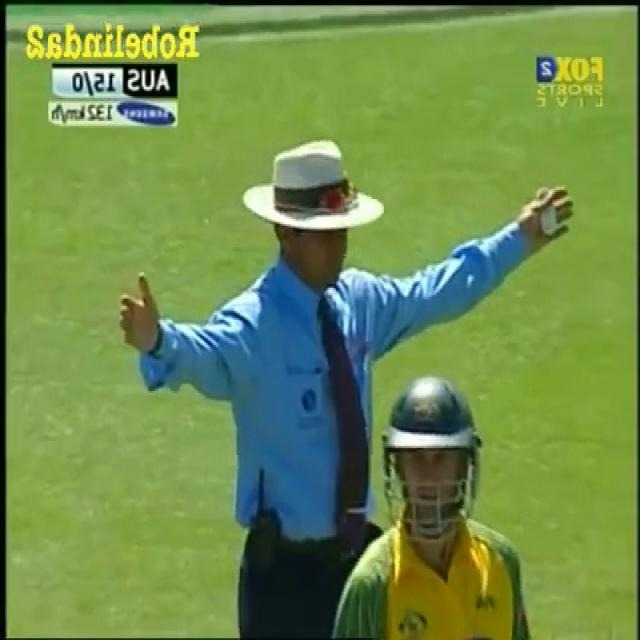Wide: (108, 130, 580, 442)
